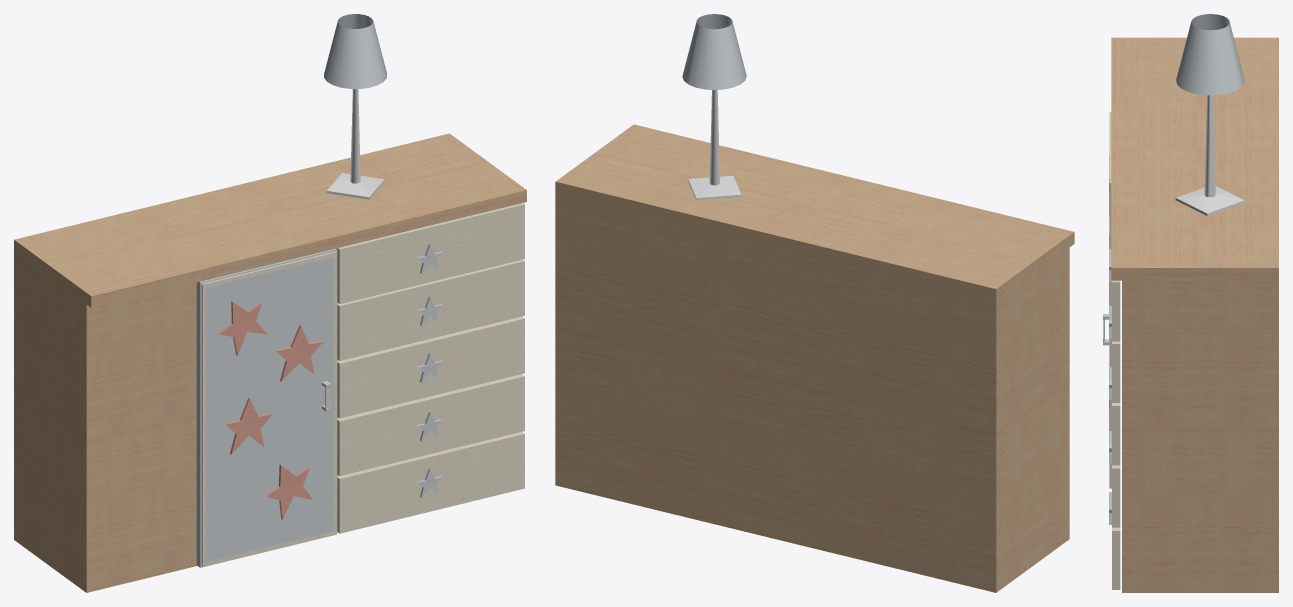
The model's file is BabyCloset.fbx.
The picture shows the model from 3 angles, left to right: view 1: azimuth 30°, elevation 25°; view 2: azimuth 150°, elevation 25°; view 3: azimuth 270°, elevation 25°; orthographic projection. The views are drawn at different scales.
Parts seen in each view (by area): view 1: polySurface26, polySurface9, polySurface66, polySurface64, polySurface67, polySurface62, polySurface63, polySurface65, polySurface15, polySurface31, polySurface30, polySurface32 (+3 smaller); view 2: polySurface26, polySurface15, polySurface3, polySurface4; view 3: polySurface26, polySurface15, polySurface3, polySurface4, polySurface65, polySurface66, polySurface64, polySurface67, polySurface62, polySurface63.
Part boxes in pixels (x1,y1,x2,y2): polySurface26: [14, 133, 526, 592]; polySurface9: [196, 248, 337, 567]; polySurface66: [337, 374, 524, 475]; polySurface64: [337, 316, 524, 418]; polySurface67: [337, 432, 524, 533]; polySurface62: [337, 259, 524, 360]; polySurface63: [336, 203, 524, 303]; polySurface65: [201, 251, 337, 566]; polySurface15: [324, 14, 386, 88]; polySurface31: [275, 325, 323, 381]; polySurface30: [218, 301, 266, 355]; polySurface32: [224, 398, 272, 454]; polySurface26: [555, 124, 1074, 592]; polySurface15: [682, 14, 746, 89]; polySurface3: [688, 175, 741, 200]; polySurface4: [709, 90, 719, 185]; polySurface26: [1111, 37, 1278, 592]; polySurface15: [1176, 14, 1244, 95]; polySurface3: [1175, 186, 1244, 215]; polySurface4: [1204, 95, 1215, 197]; polySurface65: [1109, 112, 1111, 488]; polySurface66: [1112, 465, 1120, 527]; polySurface64: [1112, 403, 1120, 465]; polySurface67: [1112, 527, 1120, 589]; polySurface62: [1112, 341, 1120, 402]; polySurface63: [1112, 280, 1120, 341].
Bounding box in the file's own units: 1.81 × 1.85 × 0.5845.
6 materials, 3 textured.
